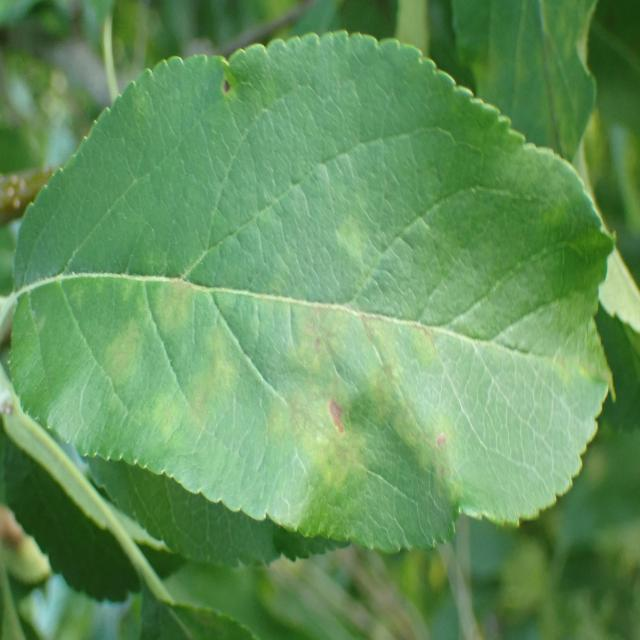scab: (46, 96, 547, 525)
